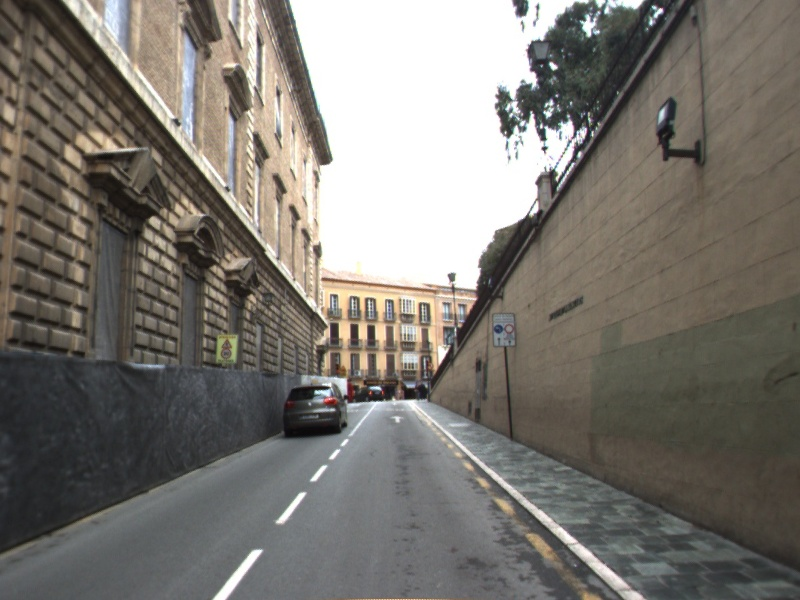STRAIGHT: (387, 413, 407, 424)
